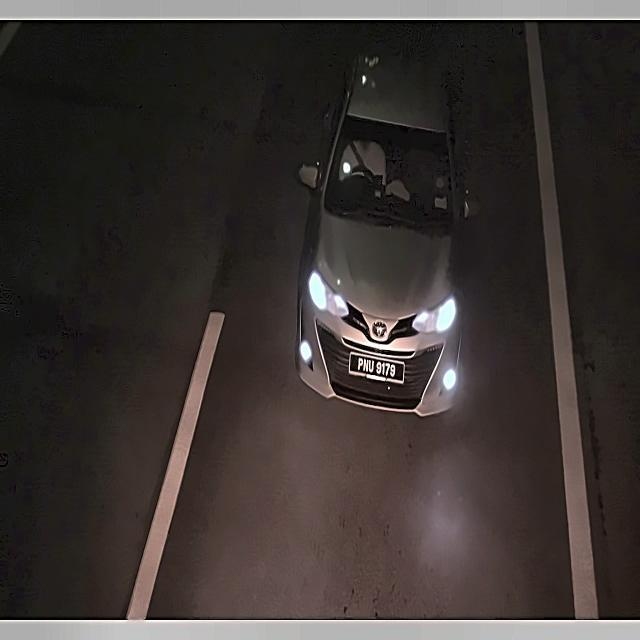car: (351, 347, 403, 385)
